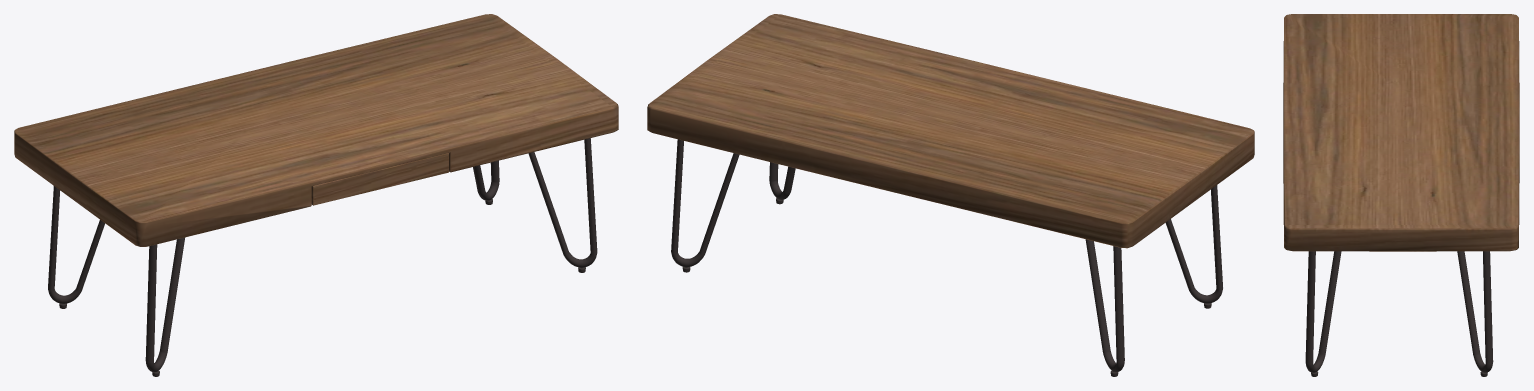
The model's file is table_basse.glb.
The picture shows the model from 3 angles, left to right: view 1: azimuth 30°, elevation 25°; view 2: azimuth 150°, elevation 25°; view 3: azimuth 270°, elevation 25°; orthographic projection. The views are drawn at different scales.
Visible parts, largest first — view 1: RootNode; view 2: RootNode; view 3: RootNode.
Boxes of the visible parts, <box> form: RootNode: <box>14,14,618,376</box>; RootNode: <box>647,14,1254,376</box>; RootNode: <box>1283,14,1519,376</box>.
Bounding box in the file's own units: 1.38 × 0.468 × 0.6369.
Materials: 1 (1 with a texture image).
